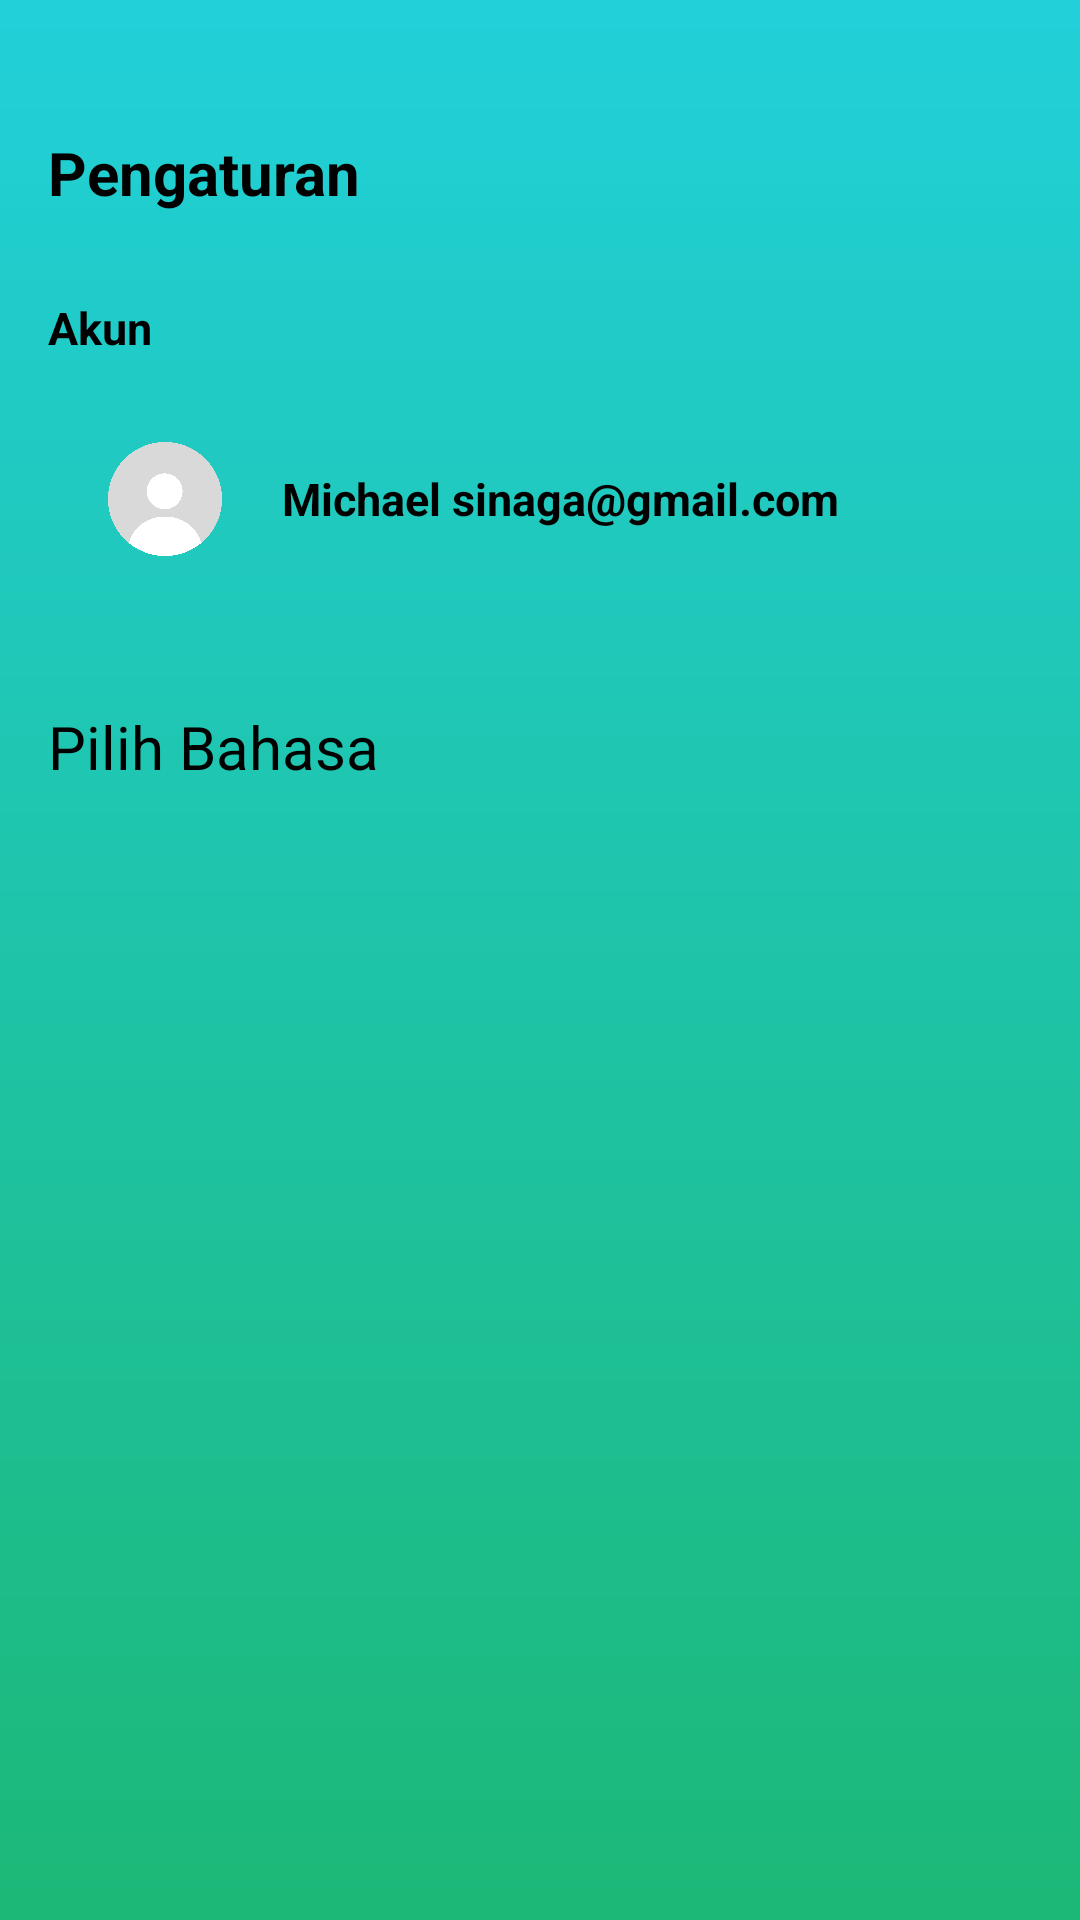

Where to tap for icons on this 1080*1920 app screen, as (x,y):
potoprofile: (165,499)
